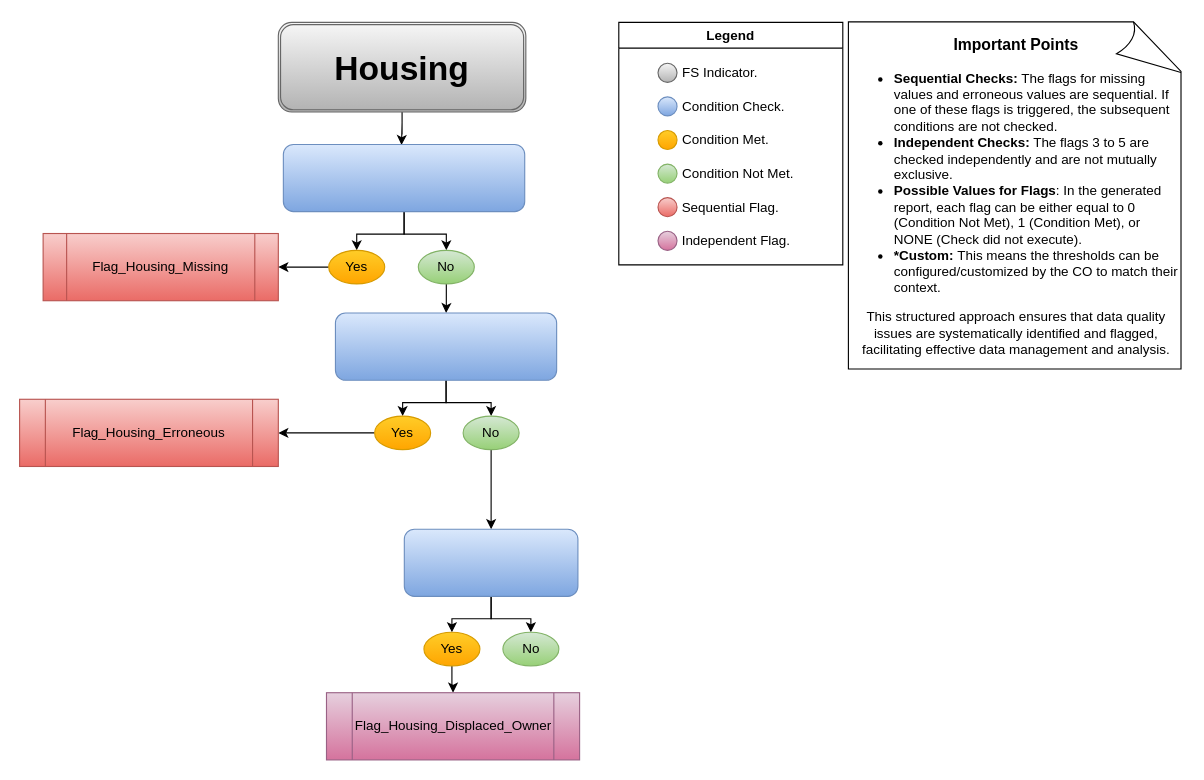
The diagram is 1204 pixels wide and 780 high, and some of its shapes have lost their labels. Each missing label, with the centre of its shape:
Condition Check #1 Missing value(s) in the housing module: [403,177]
Condition Check #2 Erroneous value(s) in the housing module: [445,346]
Condition Check #3 HH is displaced and own a residential property: [490,562]
